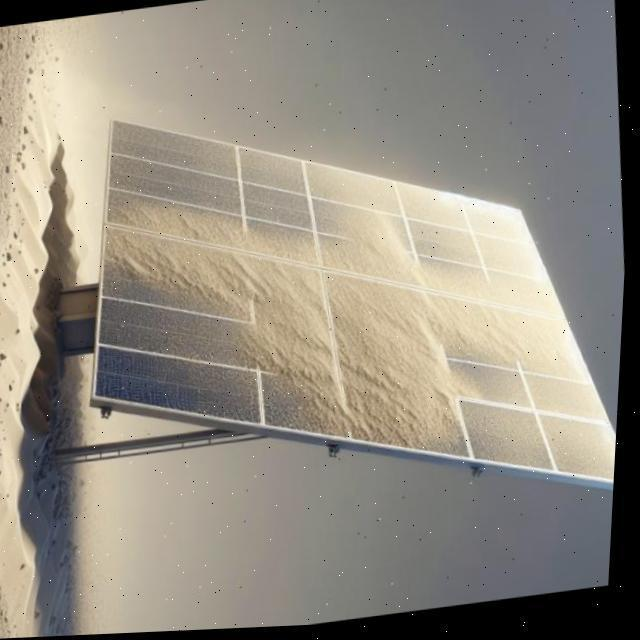Anomaly Solar Panel: (50, 120, 628, 484)
Surface Contaminant: (54, 61, 618, 538)
